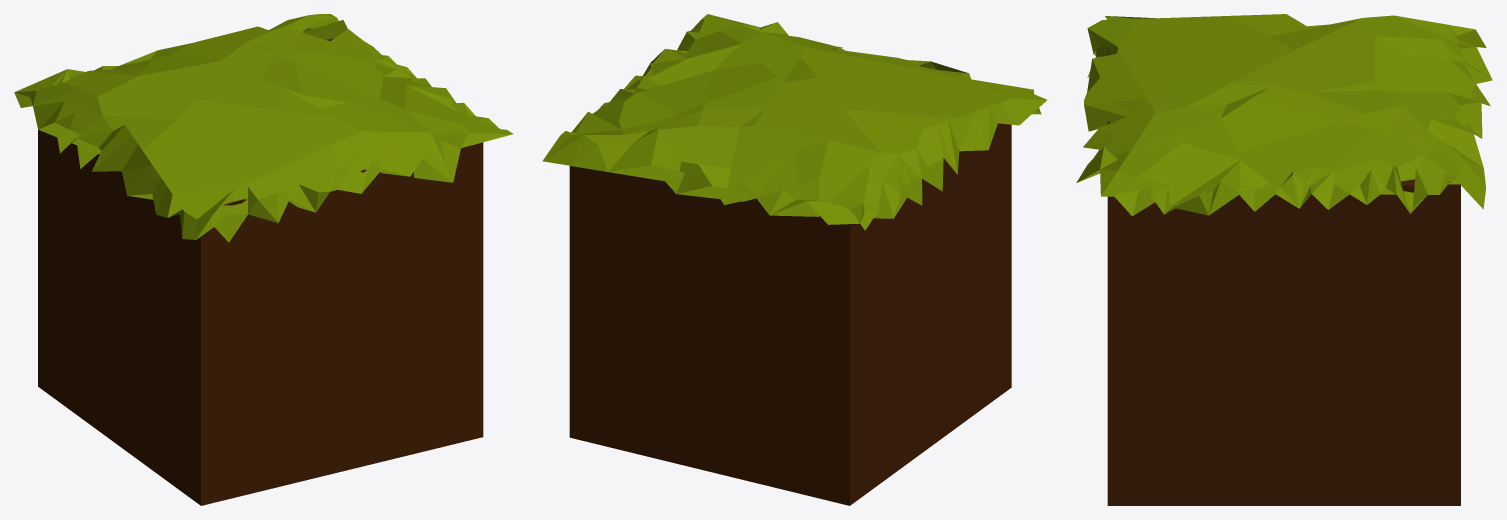
File: dirt3.fbx
3 views of the same model, side by side, from view 1: azimuth 30°, elevation 25°; view 2: azimuth 150°, elevation 25°; view 3: azimuth 270°, elevation 25° (orthographic). The views are drawn at different scales.
Visible parts, largest first — view 1: Cube, Cube.001; view 2: Cube, Cube.001; view 3: Cube, Cube.001.
Part boxes in pixels (box(x1,y1,x2,y2)): Cube: box(38, 38, 483, 505); Cube.001: box(14, 14, 513, 242); Cube: box(569, 123, 1011, 505); Cube.001: box(542, 14, 1046, 230); Cube: box(1107, 48, 1460, 505); Cube.001: box(1076, 14, 1492, 216).
Bounding box in the file's own units: 250 × 220 × 236.
